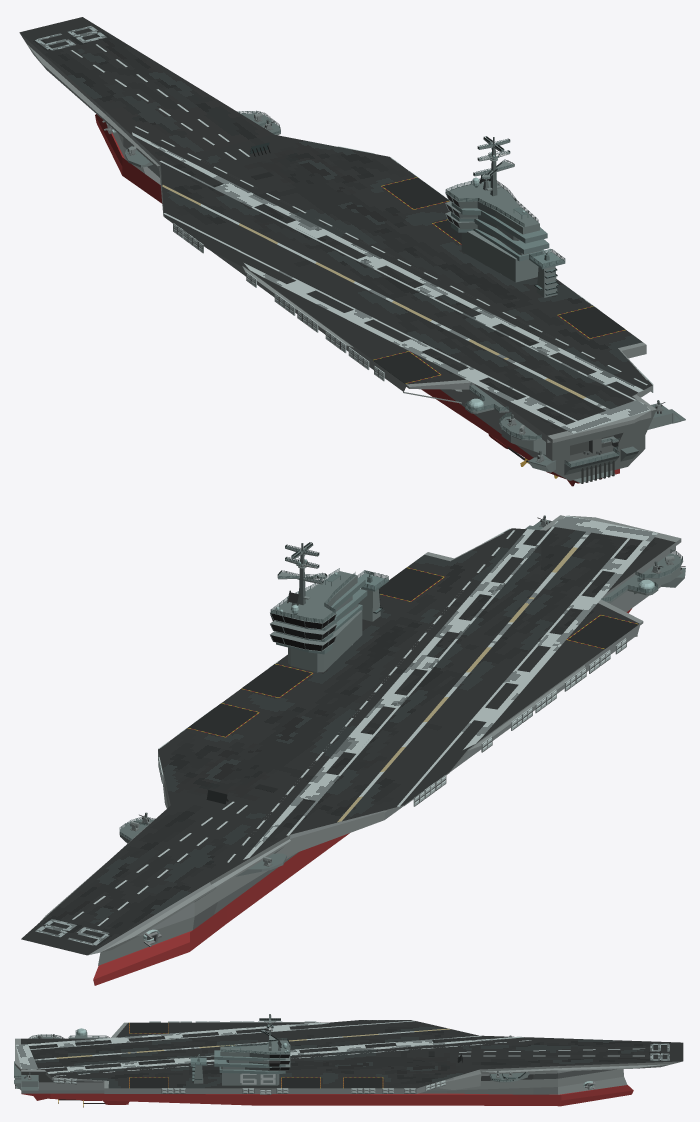
File: nimitz.glb
3 views of the same model, one above another, from view 1: azimuth 30°, elevation 25°; view 2: azimuth 150°, elevation 25°; view 3: azimuth 270°, elevation 25° (orthographic). The views are drawn at different scales.
Parts seen in each view (by area): view 1: mesh_selection_selection; view 2: mesh_selection_selection; view 3: mesh_selection_selection, plane.001, plane.
Boxes of the visible parts, x1=… form: mesh_selection_selection: x1=19, y1=17, x2=685, y2=486; mesh_selection_selection: x1=21, y1=515, x2=685, y2=985; mesh_selection_selection: x1=14, y1=1014, x2=683, y2=1107; plane.001: x1=240, y1=1073, x2=275, y2=1084; plane: x1=637, y1=1043, x2=669, y2=1060.
Bounding box in the file's own units: 3.34 × 2.53 × 13.51.
15 materials, 14 textured.
